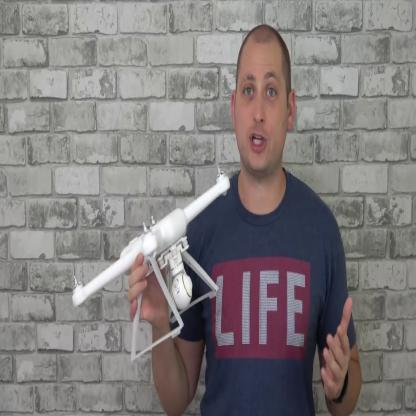drone: (69, 160, 233, 326)
